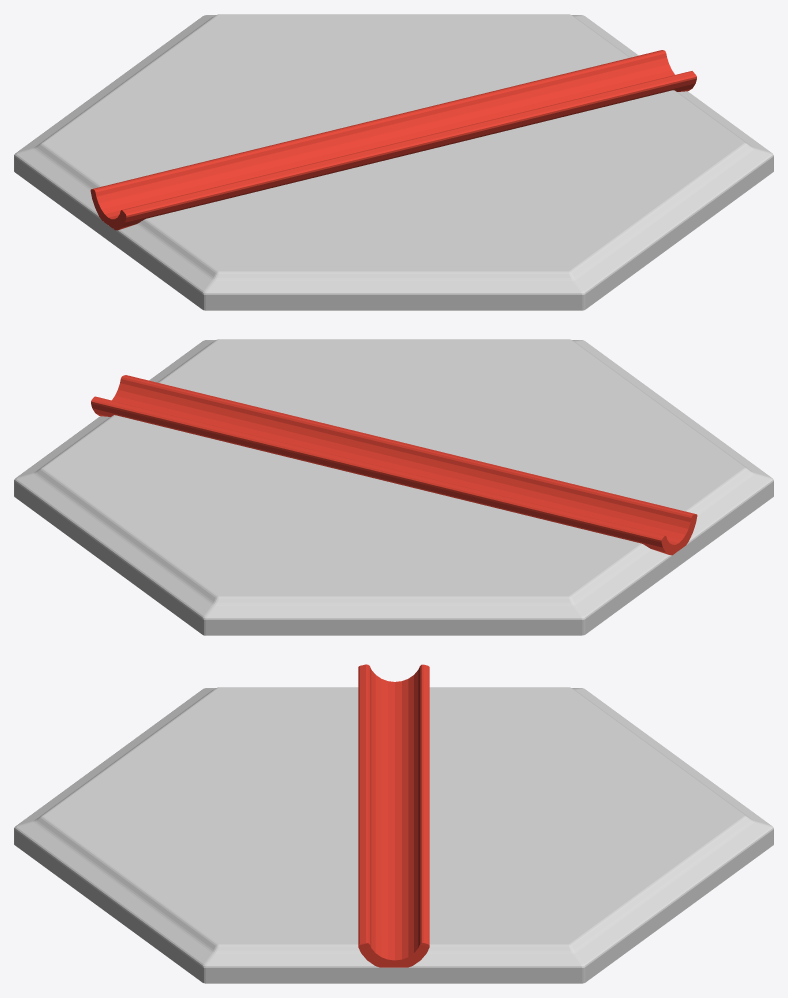
The model's file is tile_1line.glb.
3 views of the same model, one above another, from view 1: azimuth 30°, elevation 25°; view 2: azimuth 150°, elevation 25°; view 3: azimuth 270°, elevation 25° (orthographic).
Parts seen in each view (by area): view 1: Tile_1line.001; view 2: Tile_1line.001; view 3: Tile_1line.001.
Part boxes in pixels (x1,y1,x2,y2): Tile_1line.001: [14, 14, 773, 310]; Tile_1line.001: [14, 339, 773, 635]; Tile_1line.001: [14, 664, 773, 983].
Size of the model in its own units: 1.73 by 0.1183 by 2.
